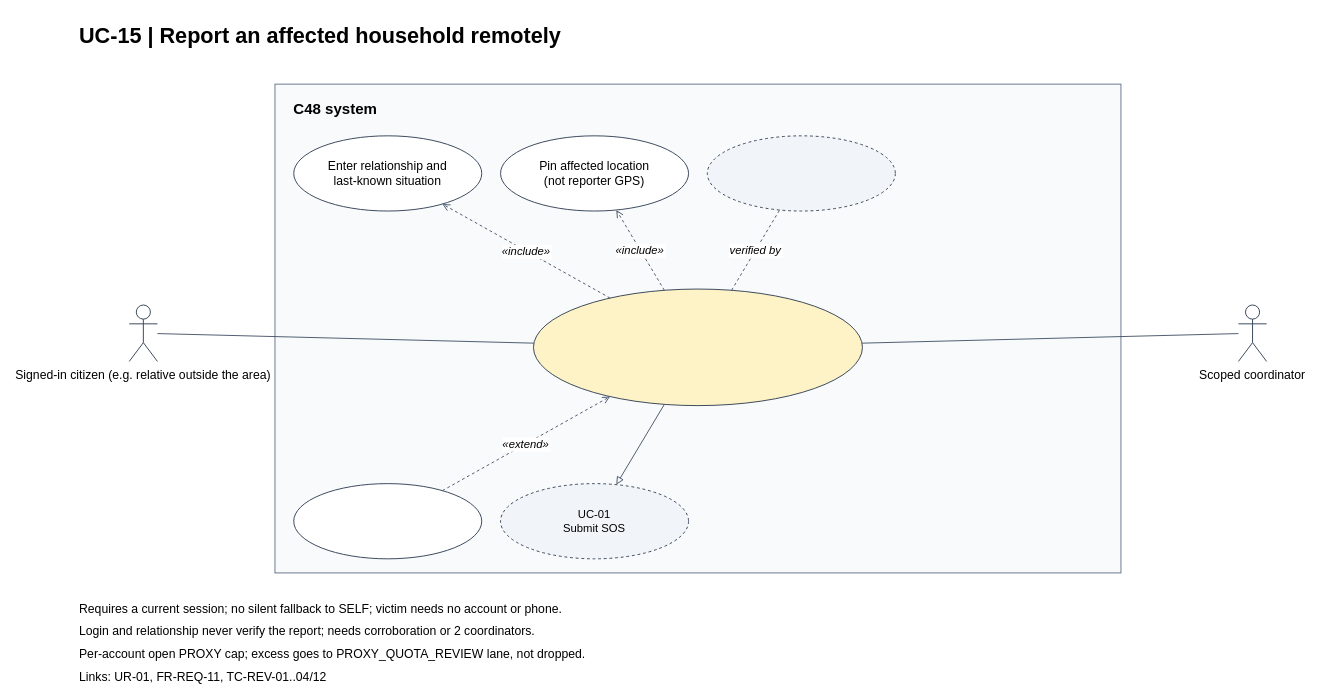
Some shapes in this 1335 by 699 pixel diagram are drawn without their labels. Here are the shapes that lost their labels. From the top down, the centre of each, then its label:
(800,173): UC-02 Verify and triage
(697,347): UC-15 Report an affected household remotely
(387,521): Add alternate local contact
